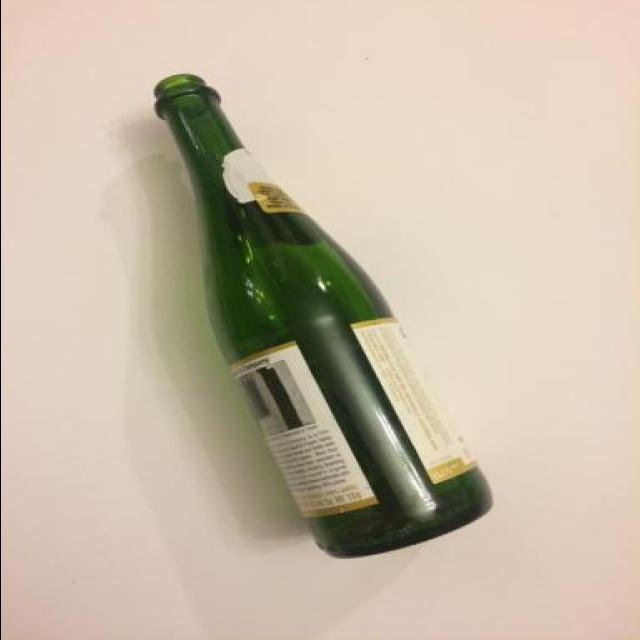Glass Bottle: (140, 71, 495, 562)
